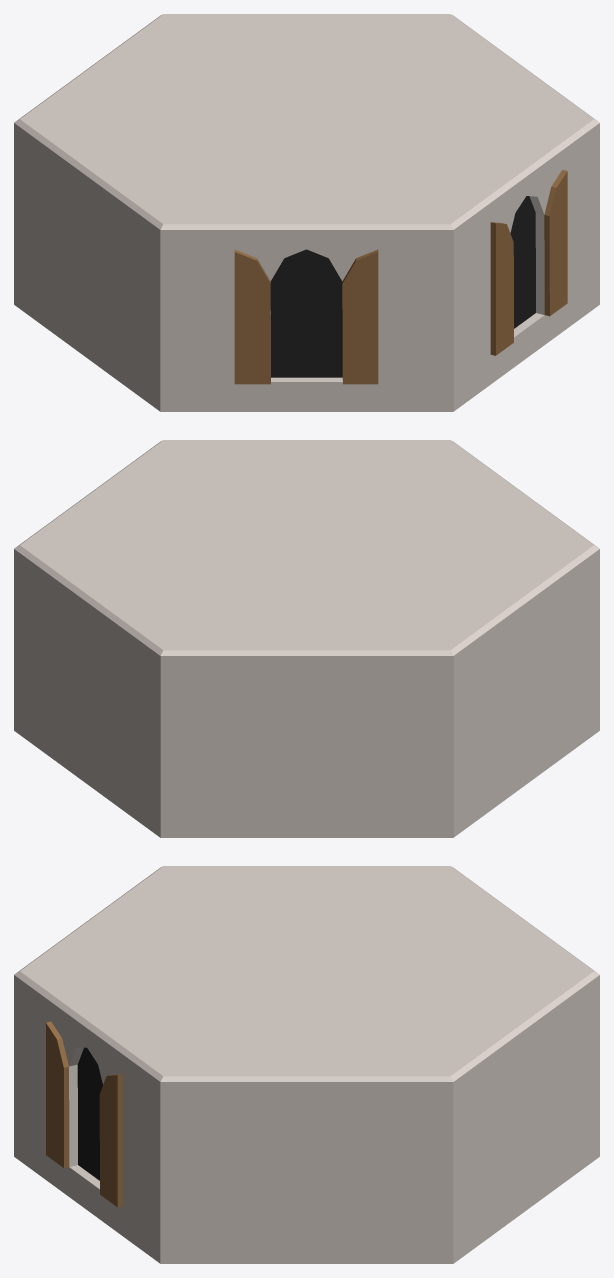
The model's file is RPG_Tiles_Hex_Building_Window_Raised_04.FBX.
The picture shows the model from 3 angles, top to bottom: view 1: azimuth 30°, elevation 25°; view 2: azimuth 150°, elevation 25°; view 3: azimuth 270°, elevation 25°; orthographic projection.
Visible parts, largest first — view 1: RPG_Tiles_Hex_Building_Window_Raised_04; view 2: RPG_Tiles_Hex_Building_Window_Raised_04; view 3: RPG_Tiles_Hex_Building_Window_Raised_04.
Boxes of the visible parts, left/top/right/bottom form: RPG_Tiles_Hex_Building_Window_Raised_04: left=14, top=14, right=599, bottom=411; RPG_Tiles_Hex_Building_Window_Raised_04: left=14, top=440, right=599, bottom=837; RPG_Tiles_Hex_Building_Window_Raised_04: left=14, top=866, right=599, bottom=1263.
Size of the model in its own units: 3000 by 1210 by 3464.
